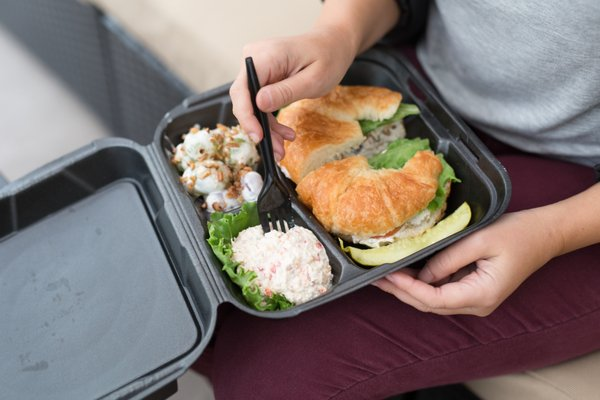soup: (270, 85, 473, 265), (296, 145, 469, 266), (272, 84, 422, 184)
sushi: (148, 74, 445, 319)
